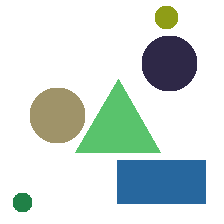circle: (142, 36, 196, 90), (30, 88, 84, 142), (155, 6, 177, 28), (13, 193, 31, 211)
rectangle: (117, 160, 205, 203)
triangle: (75, 79, 160, 152)
